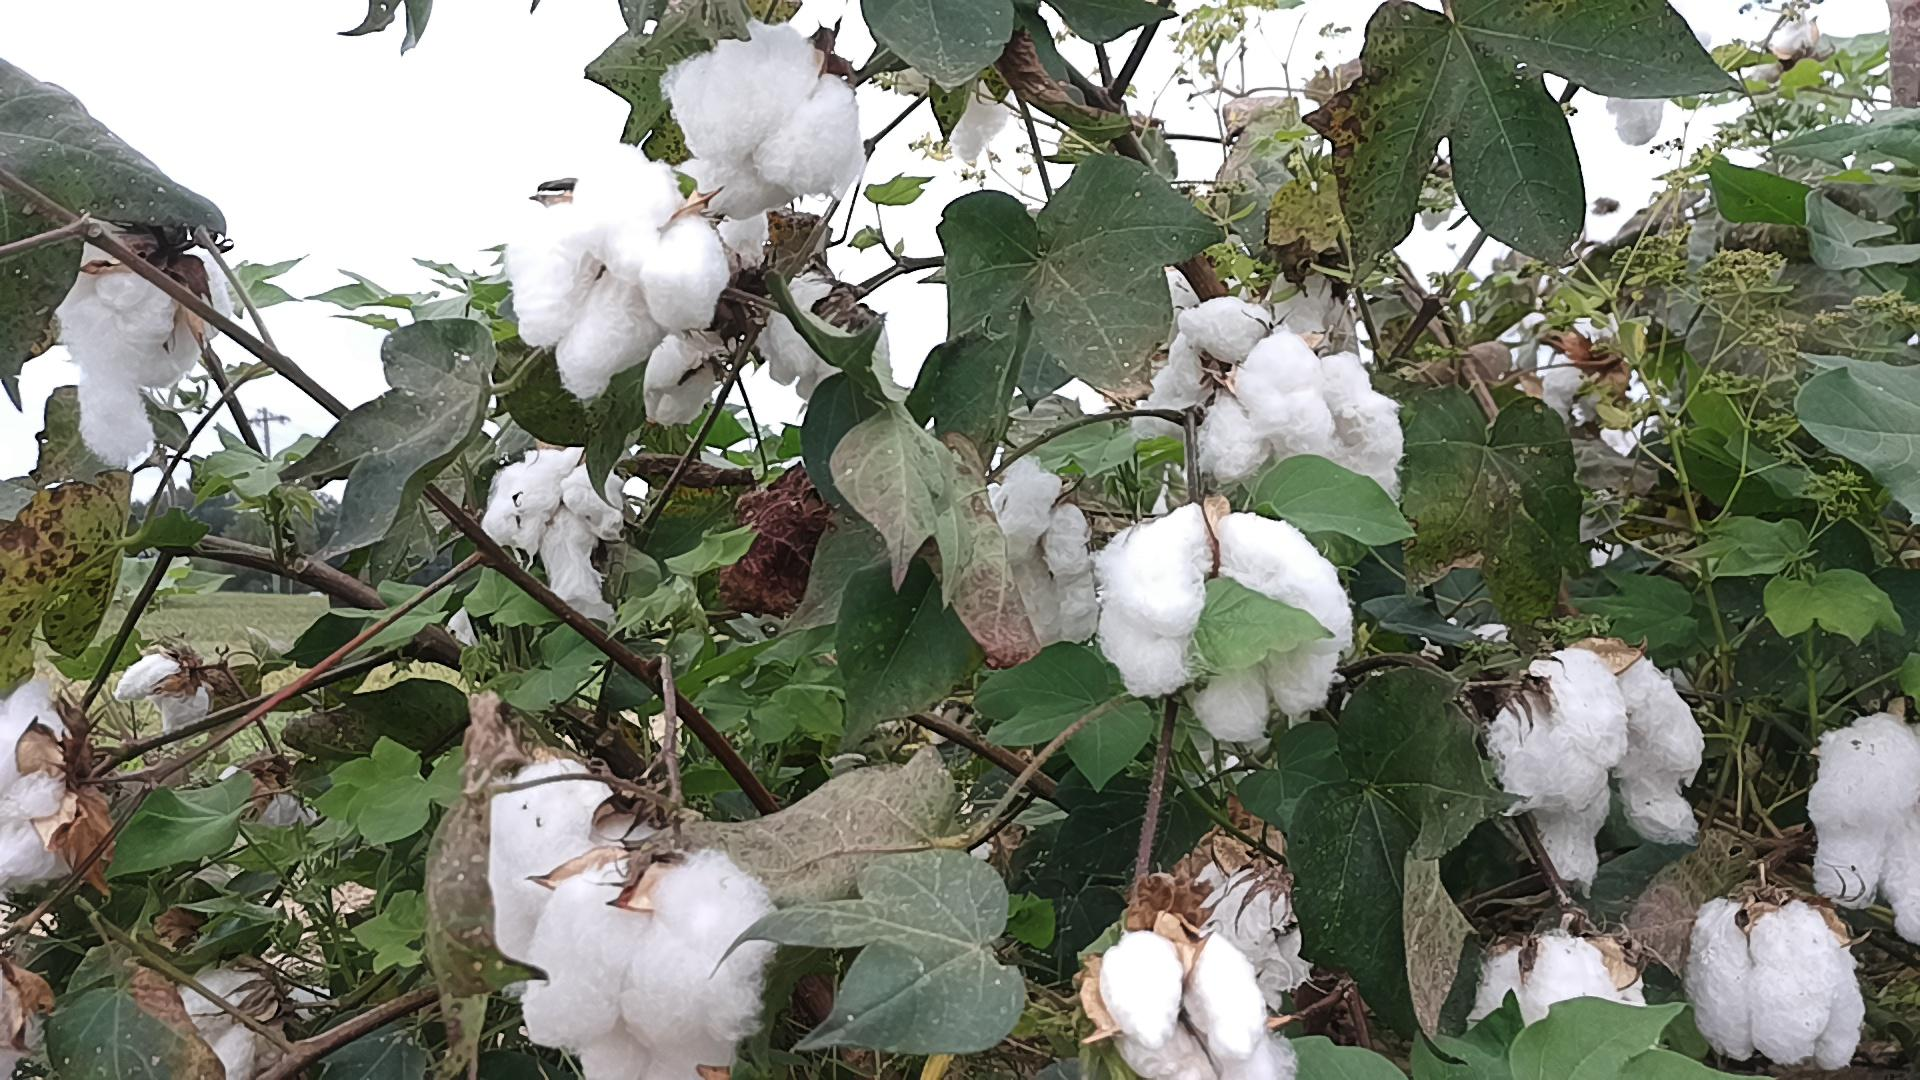cotton_ready: (1096, 508, 1360, 744), (524, 853, 775, 1080), (510, 141, 728, 401), (1493, 644, 1708, 901), (62, 220, 236, 463), (667, 28, 862, 216), (1689, 889, 1869, 1073), (1150, 301, 1336, 476), (1096, 928, 1294, 1080), (1242, 352, 1400, 529), (1808, 713, 1920, 947), (484, 443, 624, 620), (1192, 837, 1311, 1011), (1472, 942, 1647, 1026), (0, 670, 69, 885), (116, 646, 211, 732)
